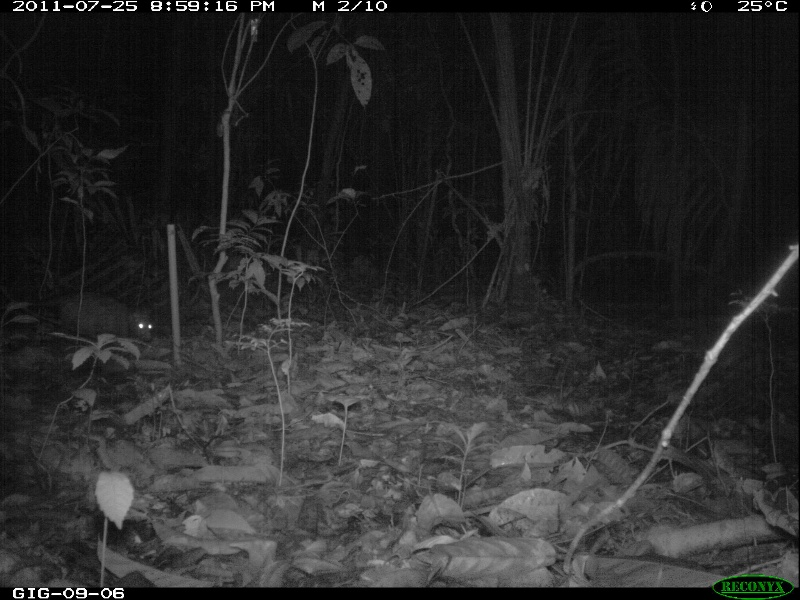opossum: (23, 284, 159, 340)
